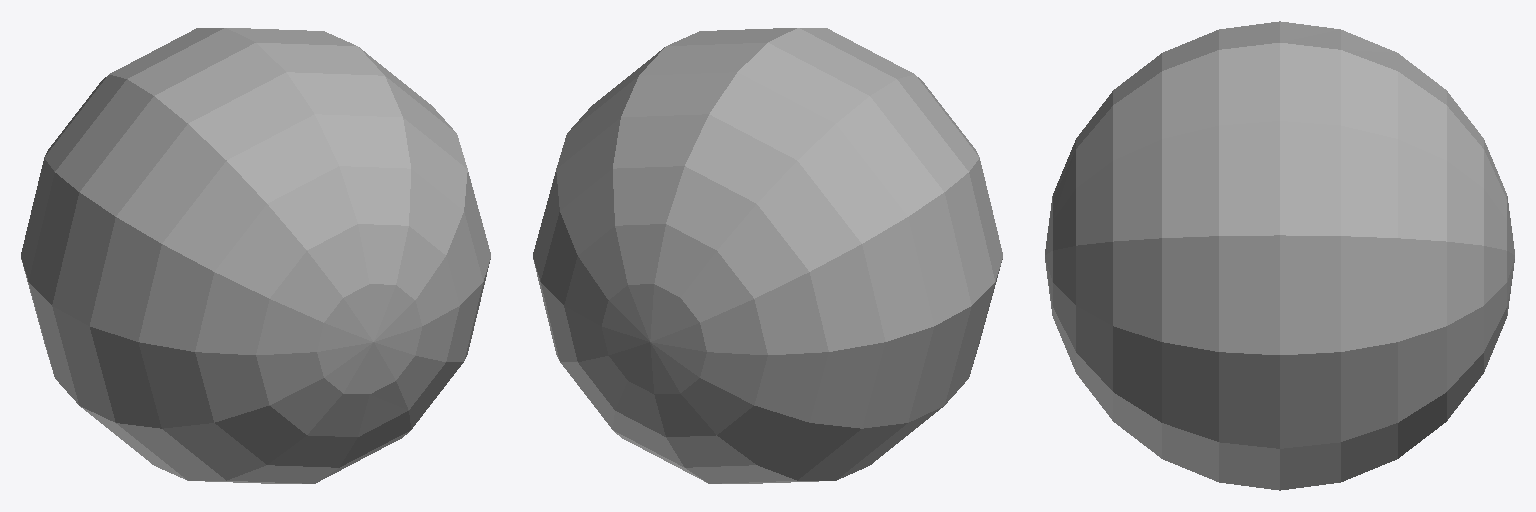
File: Uth_Eye_Rt_MshShape.obj
3 renders of one model, left to right at view 1: azimuth 30°, elevation 25°; view 2: azimuth 150°, elevation 25°; view 3: azimuth 270°, elevation 25°, orthographic.
Visible parts, largest first — view 1: Uth_Eye_Rt_Msh Head_Grp SkinnedMesh Mesh CharacterRoot; view 2: Uth_Eye_Rt_Msh Head_Grp SkinnedMesh Mesh CharacterRoot; view 3: Uth_Eye_Rt_Msh Head_Grp SkinnedMesh Mesh CharacterRoot.
Boxes of the visible parts, box(x1,y1,x2,y2) form: Uth_Eye_Rt_Msh Head_Grp SkinnedMesh Mesh CharacterRoot: box(21, 28, 490, 483); Uth_Eye_Rt_Msh Head_Grp SkinnedMesh Mesh CharacterRoot: box(533, 28, 1002, 483); Uth_Eye_Rt_Msh Head_Grp SkinnedMesh Mesh CharacterRoot: box(1045, 21, 1514, 490).
Size of the model in its own units: 3.98 by 3.98 by 3.98.